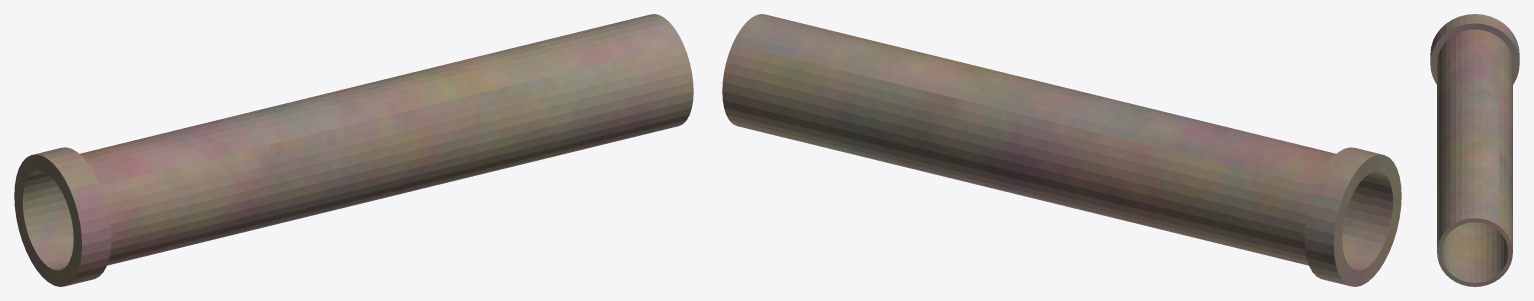
File: Pipe 1 no end.glb
The picture shows the model from 3 angles, left to right: view 1: azimuth 30°, elevation 25°; view 2: azimuth 150°, elevation 25°; view 3: azimuth 270°, elevation 25°; orthographic projection. The views are drawn at different scales.
Parts seen in each view (by area): view 1: Pipe thin 200mm NE; view 2: Pipe thin 200mm NE; view 3: Pipe thin 200mm NE.
Boxes of the visible parts, bbox=[...] form: Pipe thin 200mm NE: bbox=[14, 14, 693, 286]; Pipe thin 200mm NE: bbox=[722, 14, 1401, 286]; Pipe thin 200mm NE: bbox=[1430, 14, 1519, 286].
Bounding box in the file's own units: 14.94 × 2.85 × 2.85.
Materials: 1 (1 with a texture image).
